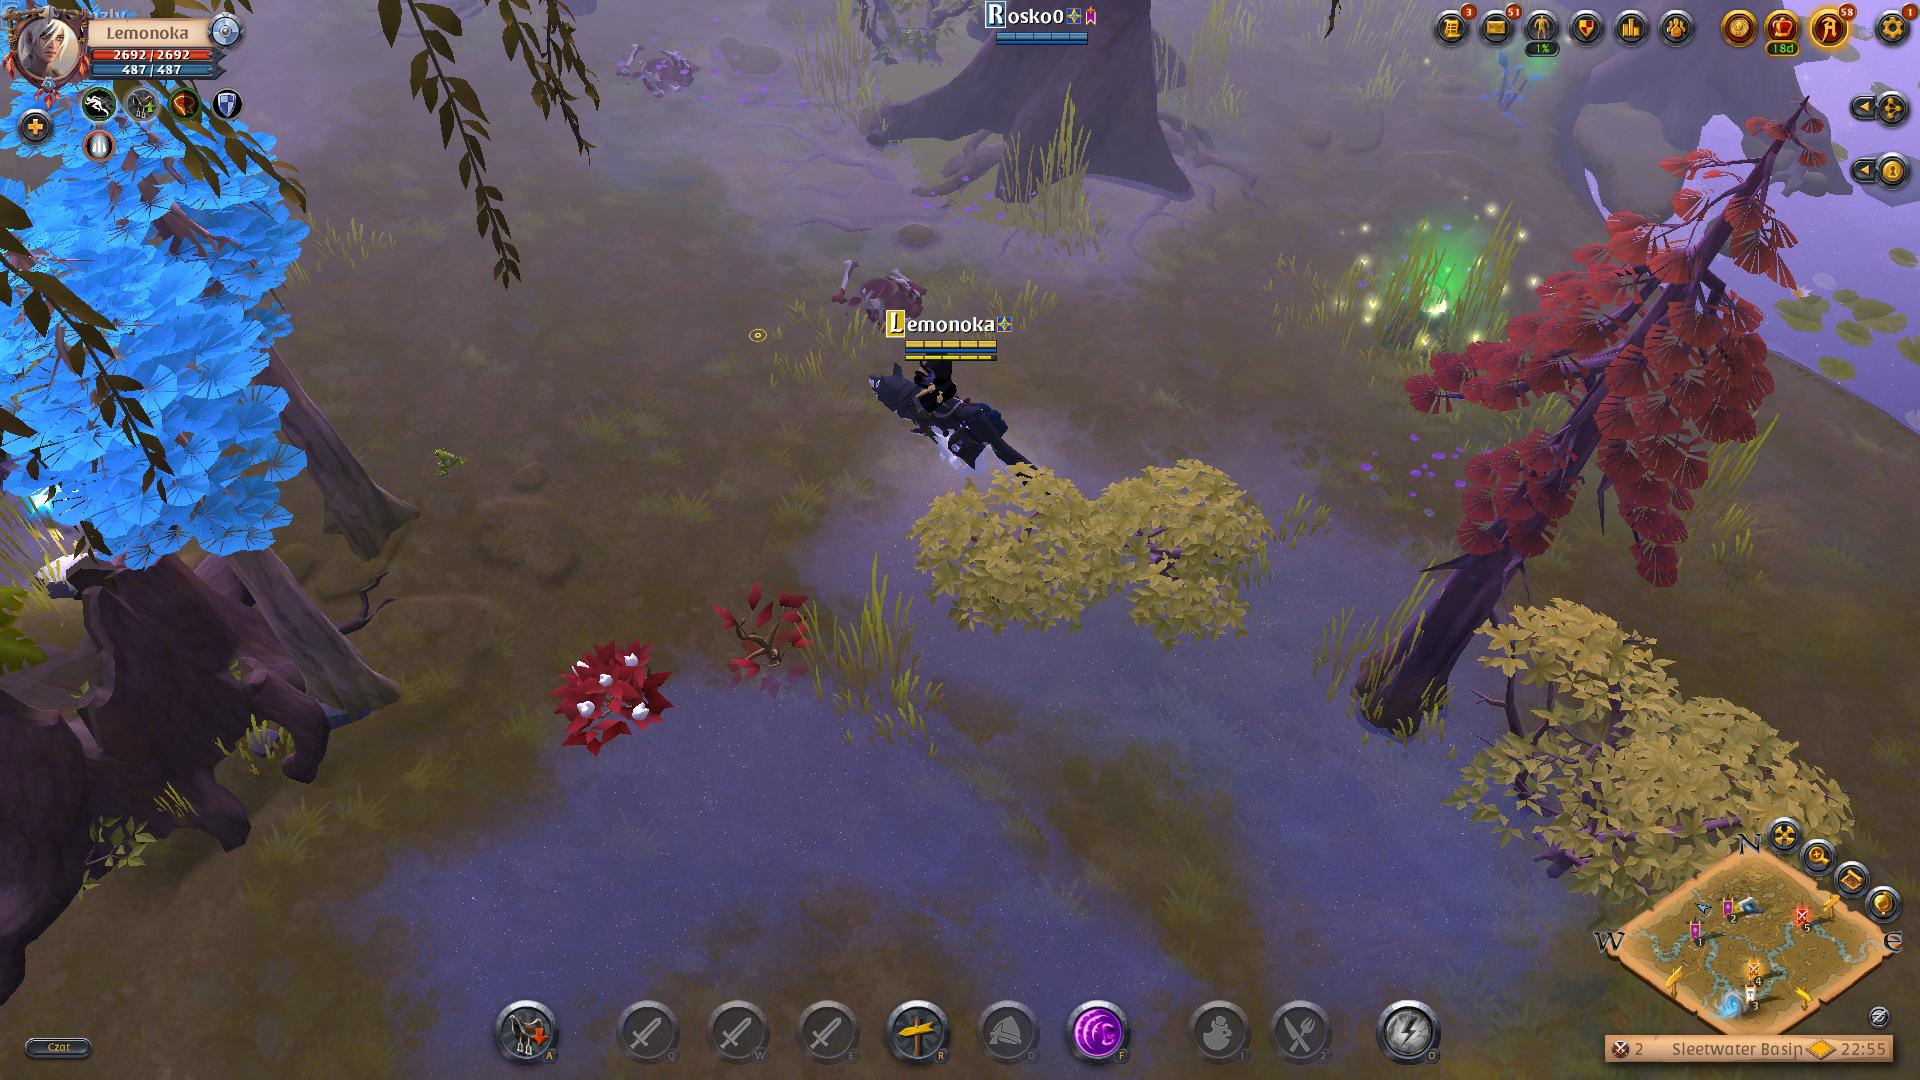fiber tier 5: (550, 636, 675, 748)
